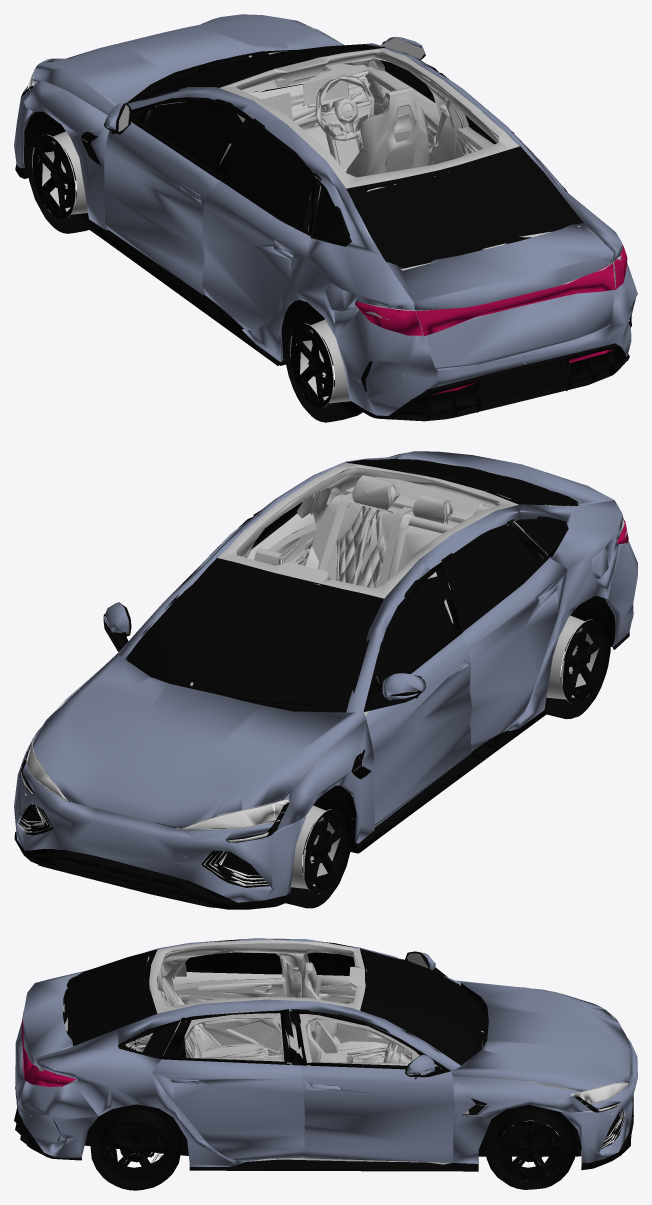
The model's file is wl80-r3-game-vehicle-assets-byd-seal.glb.
The picture shows the model from 3 angles, top to bottom: view 1: azimuth 30°, elevation 25°; view 2: azimuth 150°, elevation 25°; view 3: azimuth 270°, elevation 25°; orthographic projection. The views are drawn at different scales.
Visible parts, largest first — view 1: body, wheel_rl, wheel_fl; view 2: body, wheel_rl, wheel_fl; view 3: body, wheel_rr, wheel_fr.
Part boxes in pixels (x1,y1,x2,y2): body: (14,14,637,421); wheel_rl: (284,304,362,422); wheel_fl: (26,116,90,233); body: (14,451,637,909); wheel_rl: (544,601,611,719); wheel_fl: (285,790,352,908); body: (14,938,637,1171); wheel_rr: (90,1104,181,1190); wheel_fr: (485,1104,576,1189).
Bounding box in the file's own units: 2.15 × 1.49 × 4.79.
